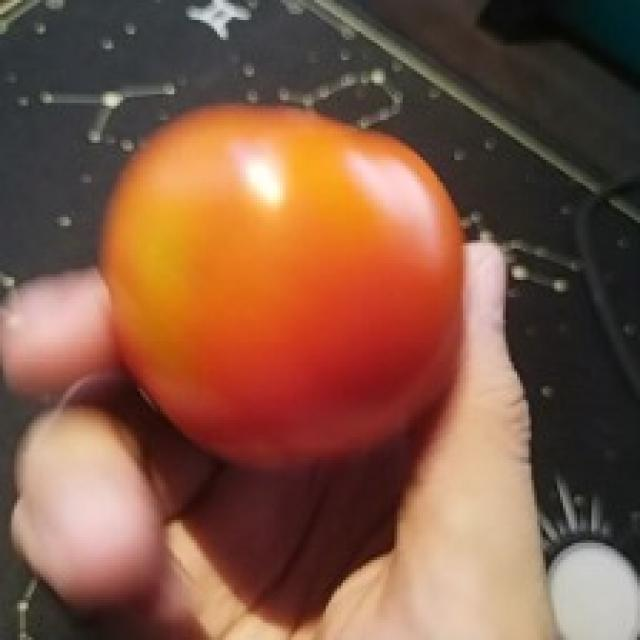Fresh Tomato: (0, 46, 525, 483)
